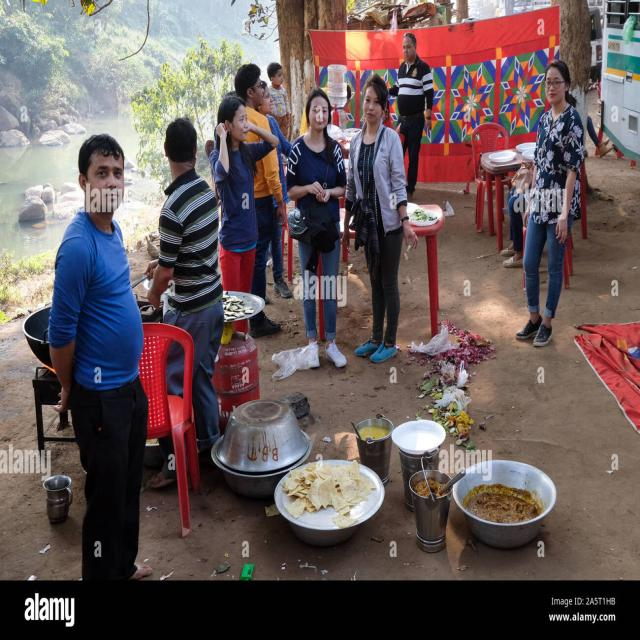no-earmuff: (74, 162, 97, 198), (220, 112, 238, 141)
